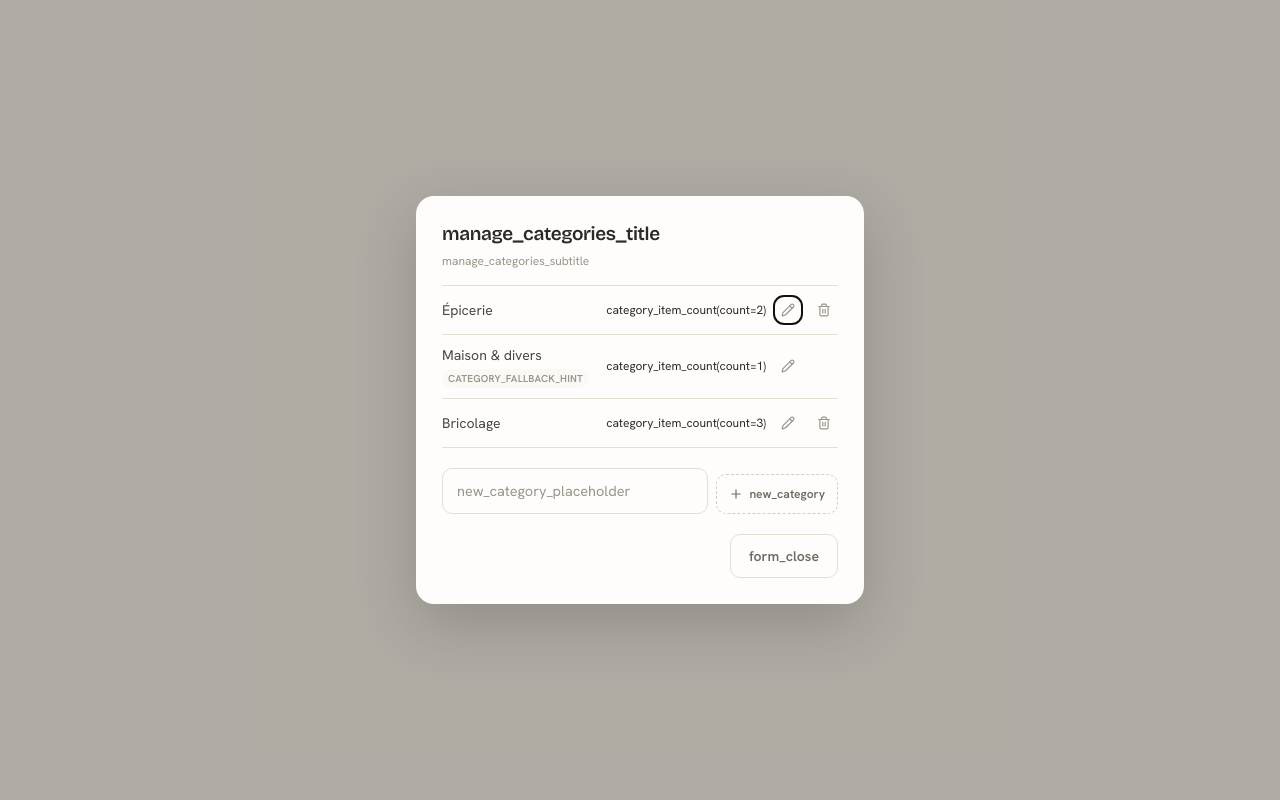
Test case: ManageCategoriesModal › asks to confirm a deletion, naming the fallback category and counting the items moved there
Click the button named "category_delete(name=Bricolage)".
click(824, 423)  # box [810,409,838,437]
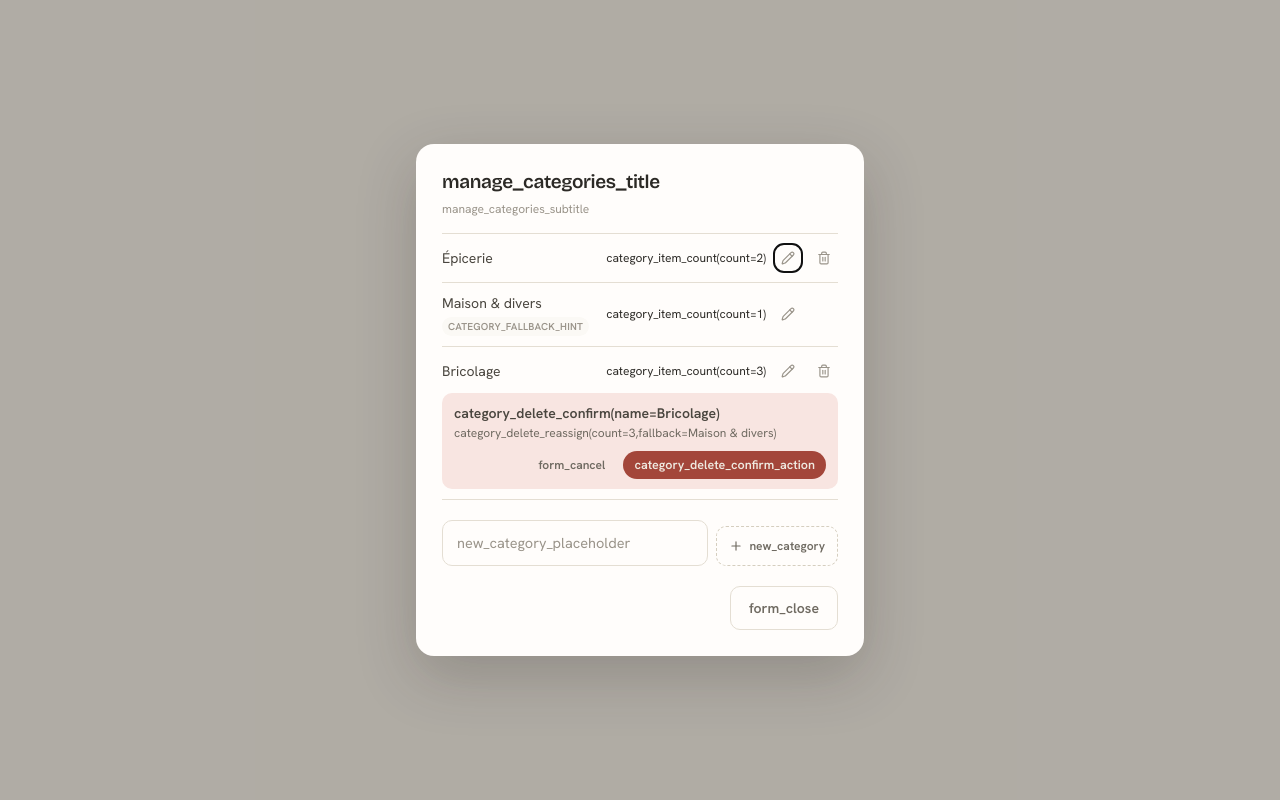
Check: the text "category_delete_confirm(name=Bricolage)" is shown, box [454,404,720,422]
Check: the text "category_delete_reassign(count=3,fallback=Maison & divers)" is shown, box [454,424,826,440]
